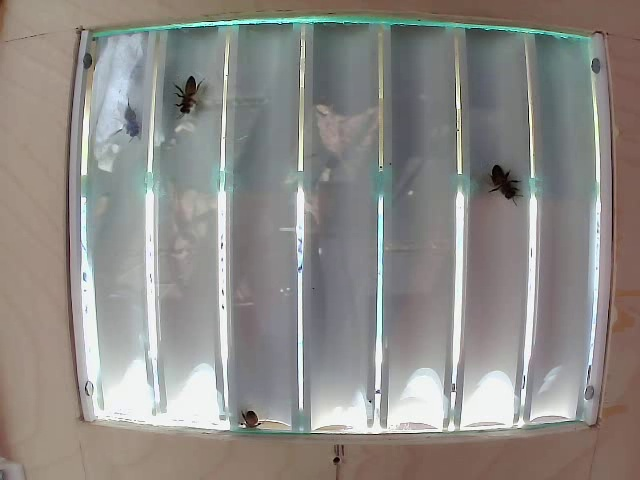bee: (472, 145, 522, 214), (167, 77, 218, 134), (111, 93, 143, 144)
